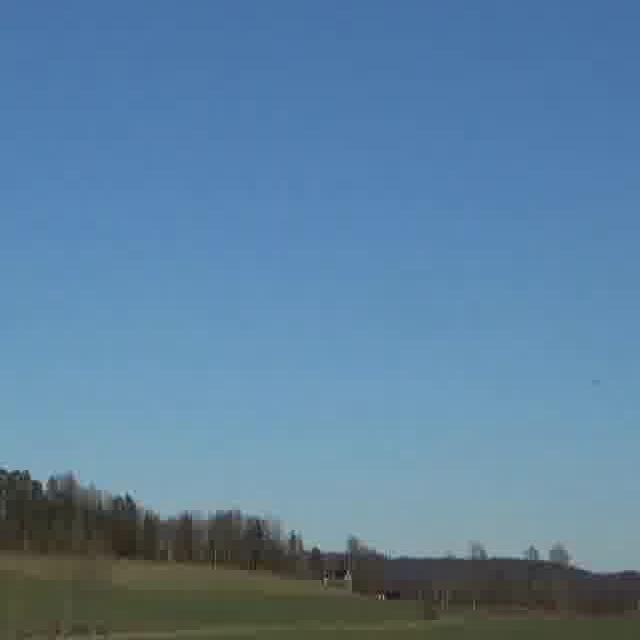bird: (594, 371, 604, 394)
